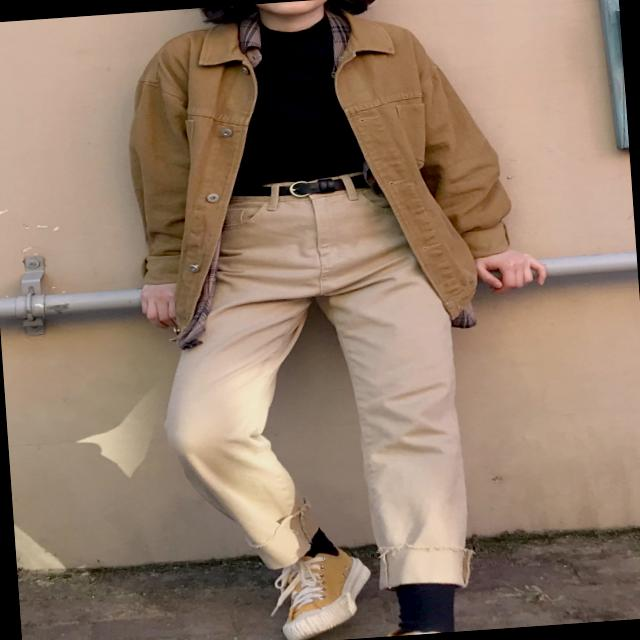cottonpants: (146, 168, 478, 616)
jacket: (125, 0, 525, 346)
